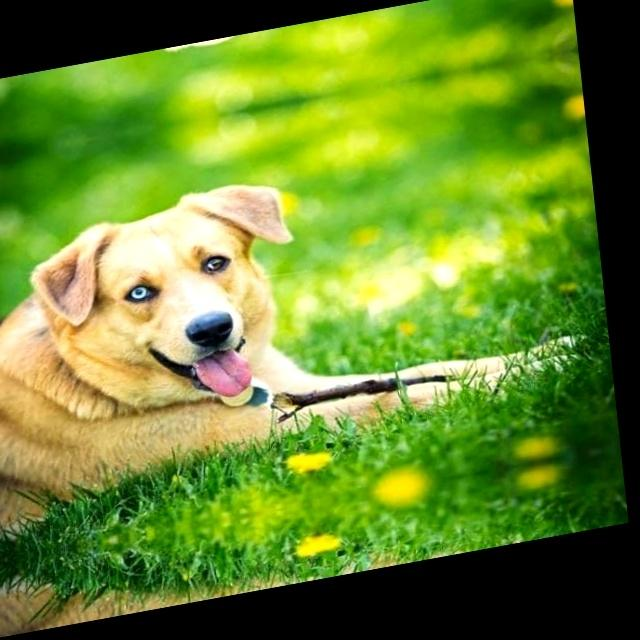dog: (23, 160, 323, 458), (8, 27, 284, 95)
